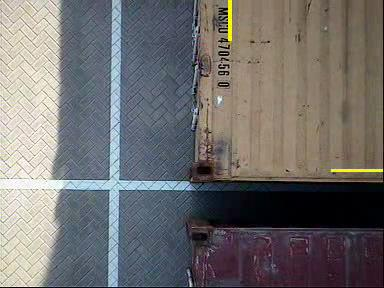groundmarker_2: (140, 82, 276, 180)
